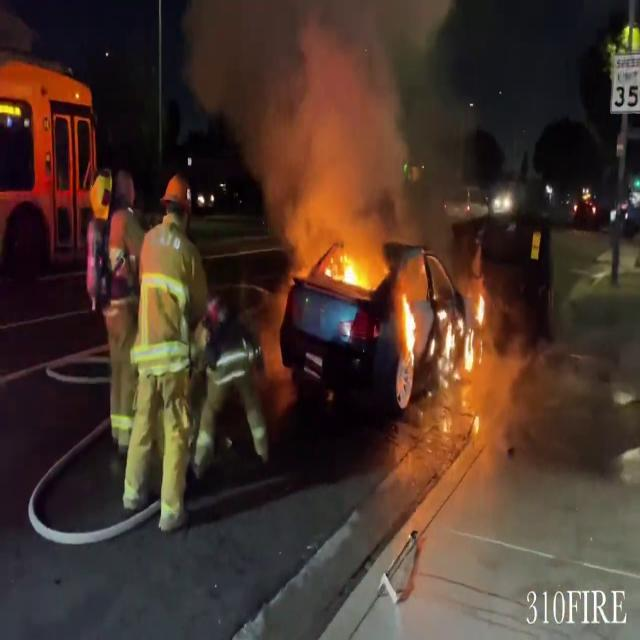Fire: (319, 244, 374, 302), (400, 290, 420, 360)
Smoke: (190, 0, 467, 252)
